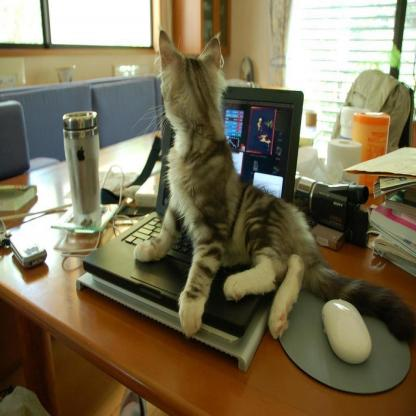board: (83, 82, 303, 332), (63, 110, 102, 234)
